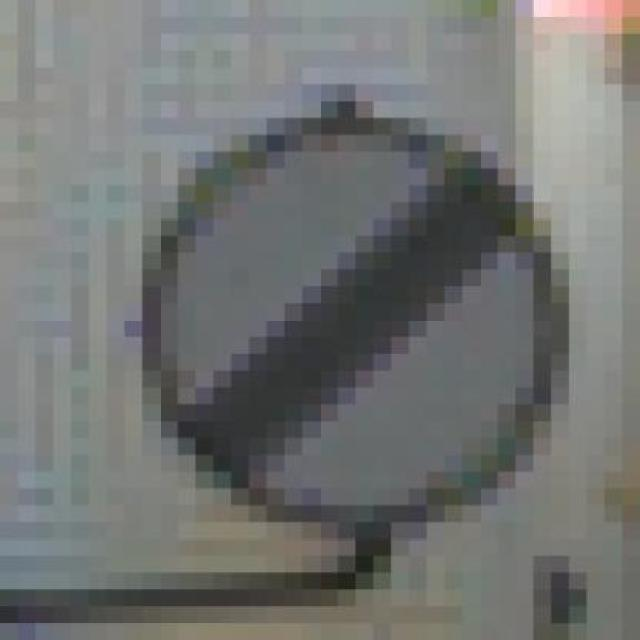End of all speed and passing limits: (127, 82, 590, 570)
